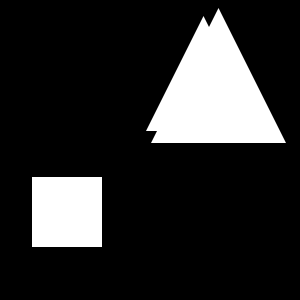circle: (32, 177, 102, 247)
triangle: (151, 8, 286, 143), (146, 16, 261, 131), (186, 38, 229, 81)
